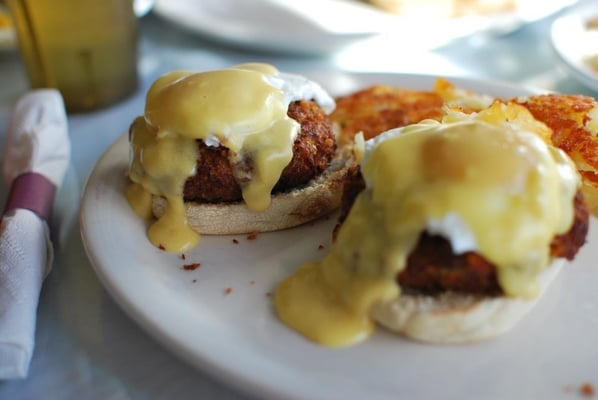pizza: (3, 1, 143, 112)
soup: (270, 96, 591, 346), (126, 63, 357, 251)
sushi: (549, 7, 598, 97)
